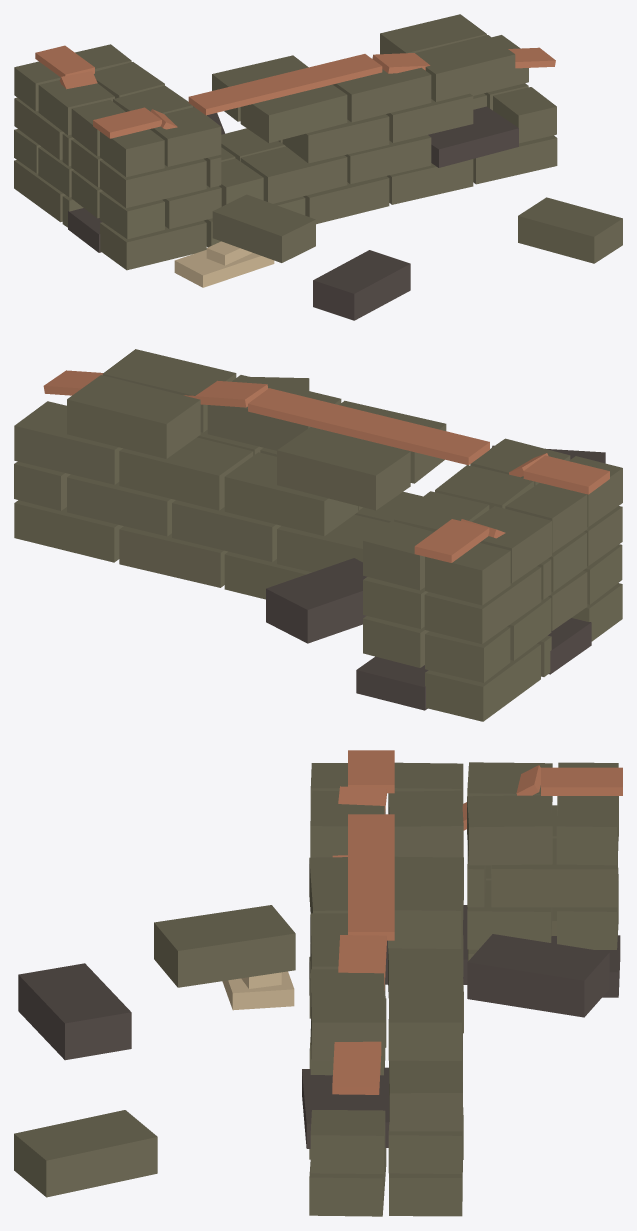
The model's file is SM_SacosRemate_v3_Tablon_e1_Danado_LOD0.fbx.
3 views of the same model, one above another, from view 1: azimuth 30°, elevation 25°; view 2: azimuth 150°, elevation 25°; view 3: azimuth 270°, elevation 25° (orthographic). The views are drawn at different scales.
Parts seen in each view (by area): view 1: SM_sacos_piezas_v33_LOD0; view 2: SM_sacos_piezas_v33_LOD0; view 3: SM_sacos_piezas_v33_LOD0.
Boxes of the visible parts, bbox=[...] form: SM_sacos_piezas_v33_LOD0: bbox=[14, 14, 622, 320]; SM_sacos_piezas_v33_LOD0: bbox=[14, 349, 622, 721]; SM_sacos_piezas_v33_LOD0: bbox=[14, 750, 622, 1216].
Bounding box in the file's own units: 4.46 × 1.26 × 3.9.
